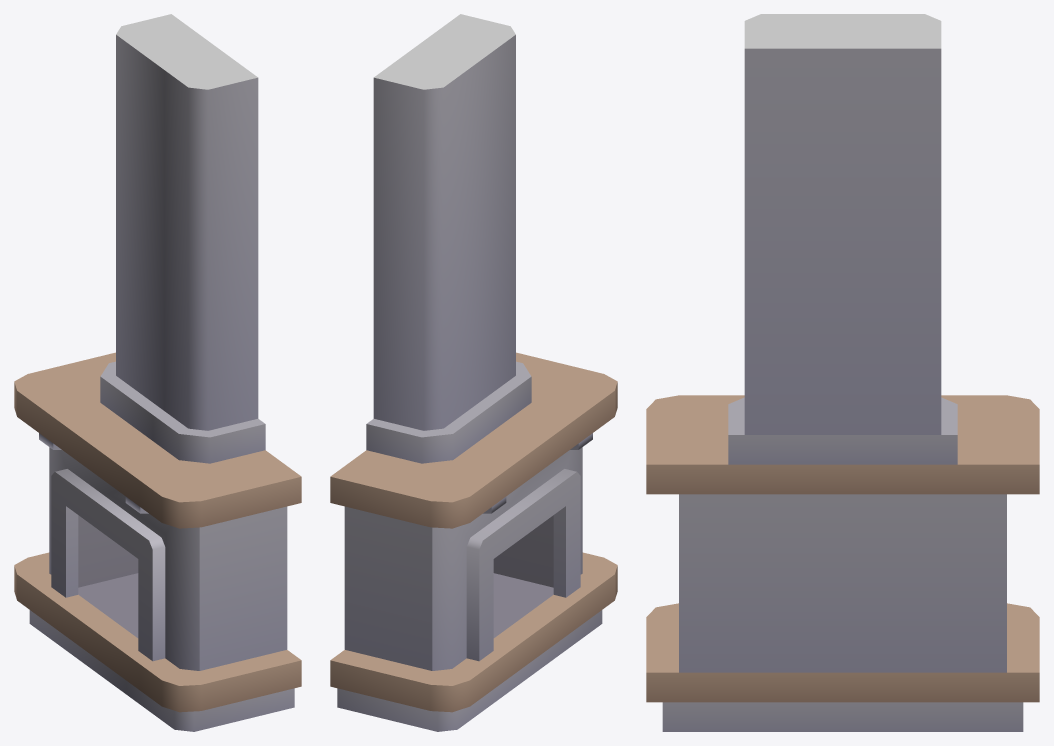
Rendered from fireplace-standard-narrow.glb.
3 views of the same model, side by side, from view 1: azimuth 30°, elevation 25°; view 2: azimuth 150°, elevation 25°; view 3: azimuth 270°, elevation 25° (orthographic). The views are drawn at different scales.
Visible parts, largest first — view 1: fireplace-standard-narrow; view 2: fireplace-standard-narrow; view 3: fireplace-standard-narrow.
Part boxes in pixels (<box>): fireplace-standard-narrow: <box>14,14,301,731</box>; fireplace-standard-narrow: <box>330,14,617,731</box>; fireplace-standard-narrow: <box>646,14,1039,731</box>.
Bounding box in the file's own units: 0.5 × 2.3 × 1.2.
